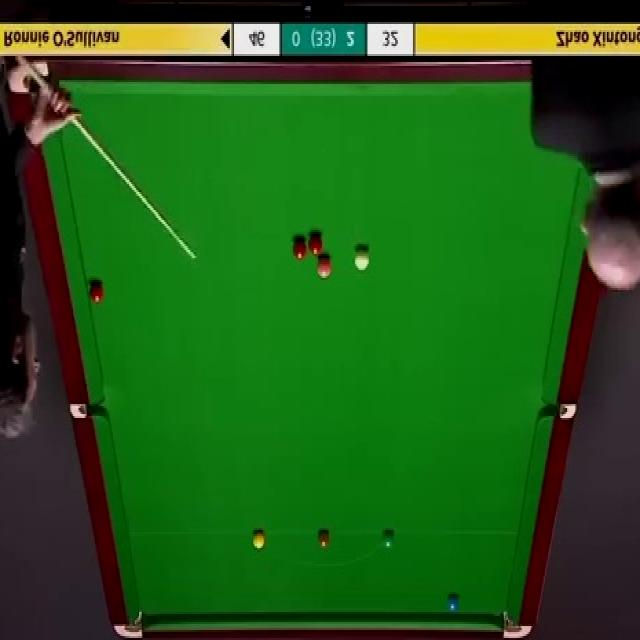blue-ball: (446, 594, 460, 613)
brown-ball: (317, 531, 330, 548)
green-ball: (382, 528, 396, 552)
pink-ball: (316, 256, 332, 280)
red-ball: (309, 230, 323, 257), (89, 282, 105, 305), (292, 239, 307, 262)
white-ball: (352, 248, 370, 275)
yellow-ball: (252, 530, 266, 551)
